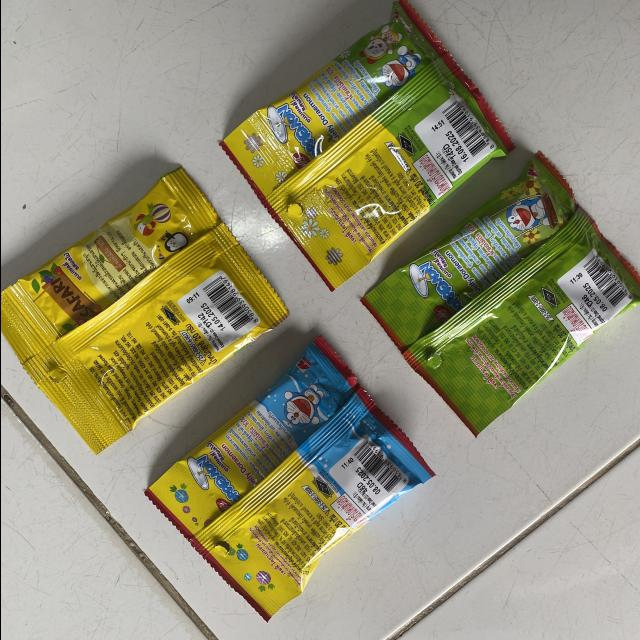plastik: (219, 0, 512, 290), (0, 168, 287, 453), (144, 337, 433, 620), (360, 153, 640, 435)
